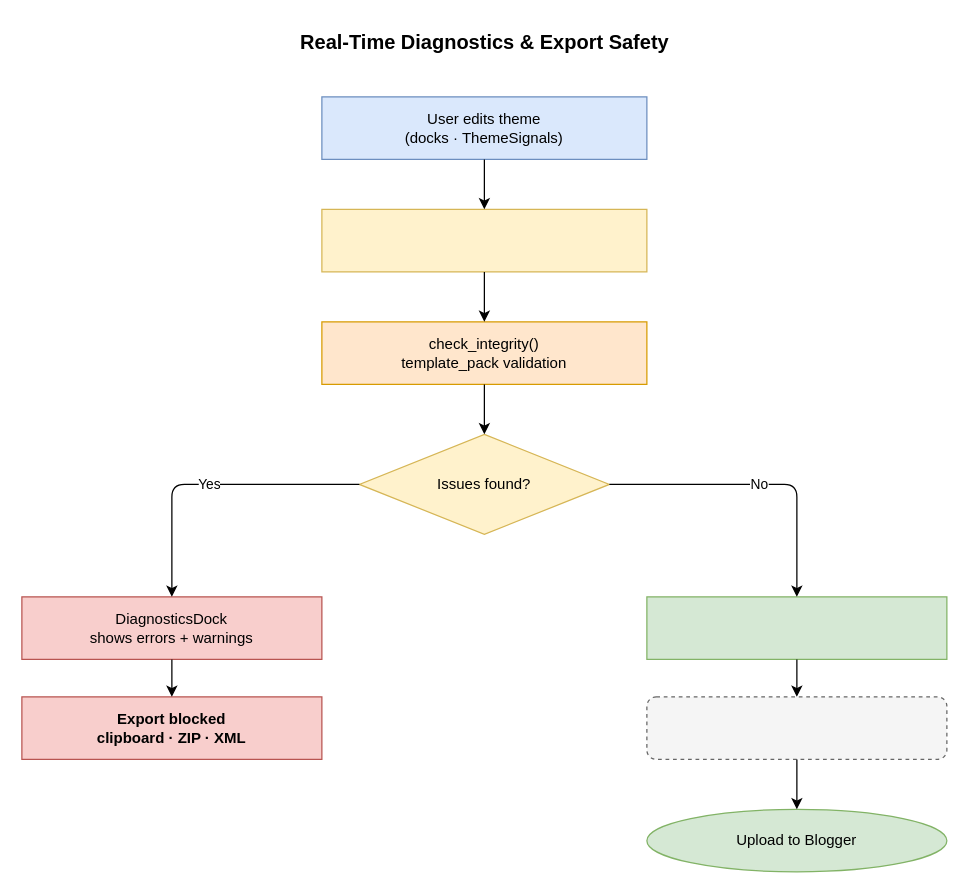
Image size: 969x894. Some labels were removed from this diagram. Each missing label, with the centre of its shape:
generated_xml memo updates: (484,240)
mwt check (CLI): (796,727)
Safe export XML · ZIP · clipboard: (796,627)
